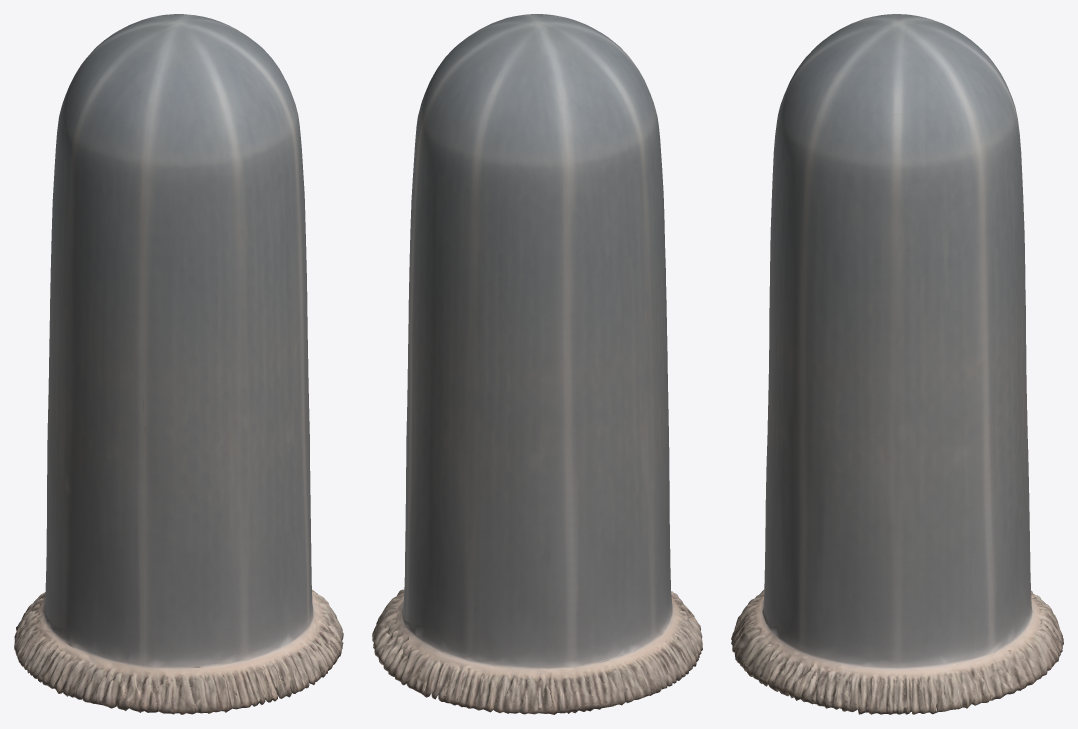
The picture shows the model from 3 angles, left to right: view 1: azimuth 30°, elevation 25°; view 2: azimuth 150°, elevation 25°; view 3: azimuth 270°, elevation 25°; orthographic projection.
Parts seen in each view (by area): view 1: world; view 2: world; view 3: world.
Part boxes in pixels (<box>): world: <box>14,14,343,714</box>; world: <box>372,14,702,714</box>; world: <box>731,14,1063,714</box>.
Size of the model in its own units: 0.0753 by 0.1567 by 0.0751.
1 material, 1 textured.
